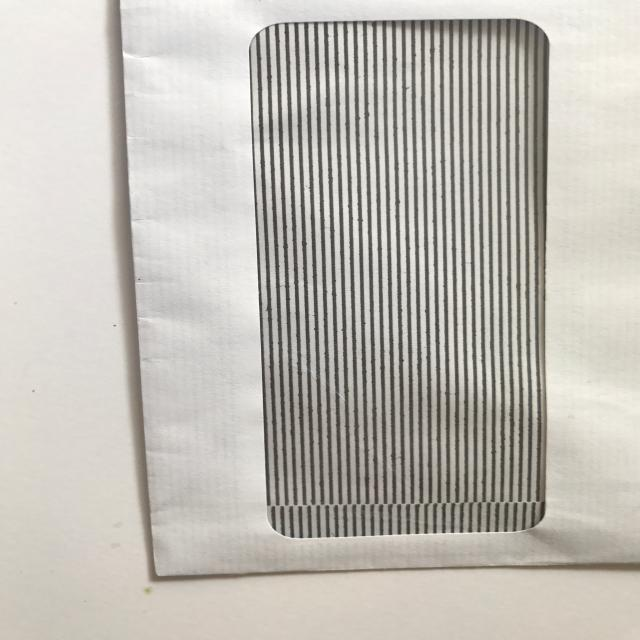paper: (60, 0, 640, 617)
